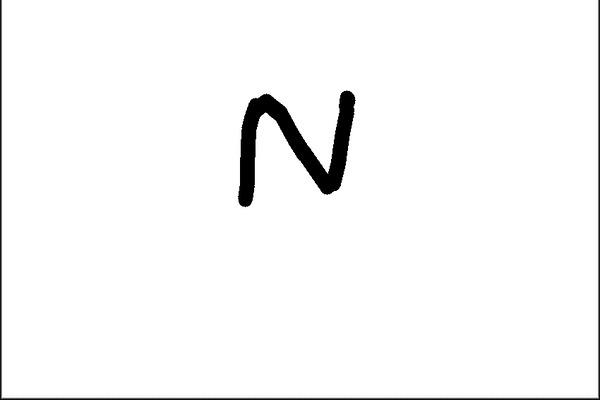N: (234, 80, 358, 215)
